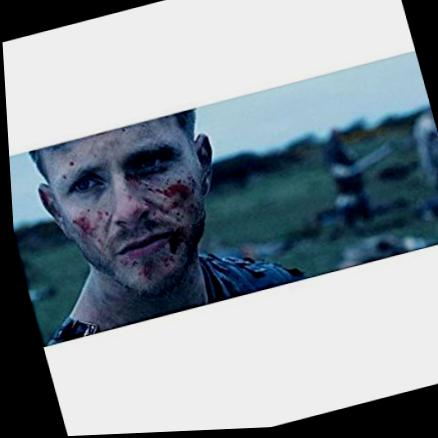Fire: (72, 179, 201, 254)
